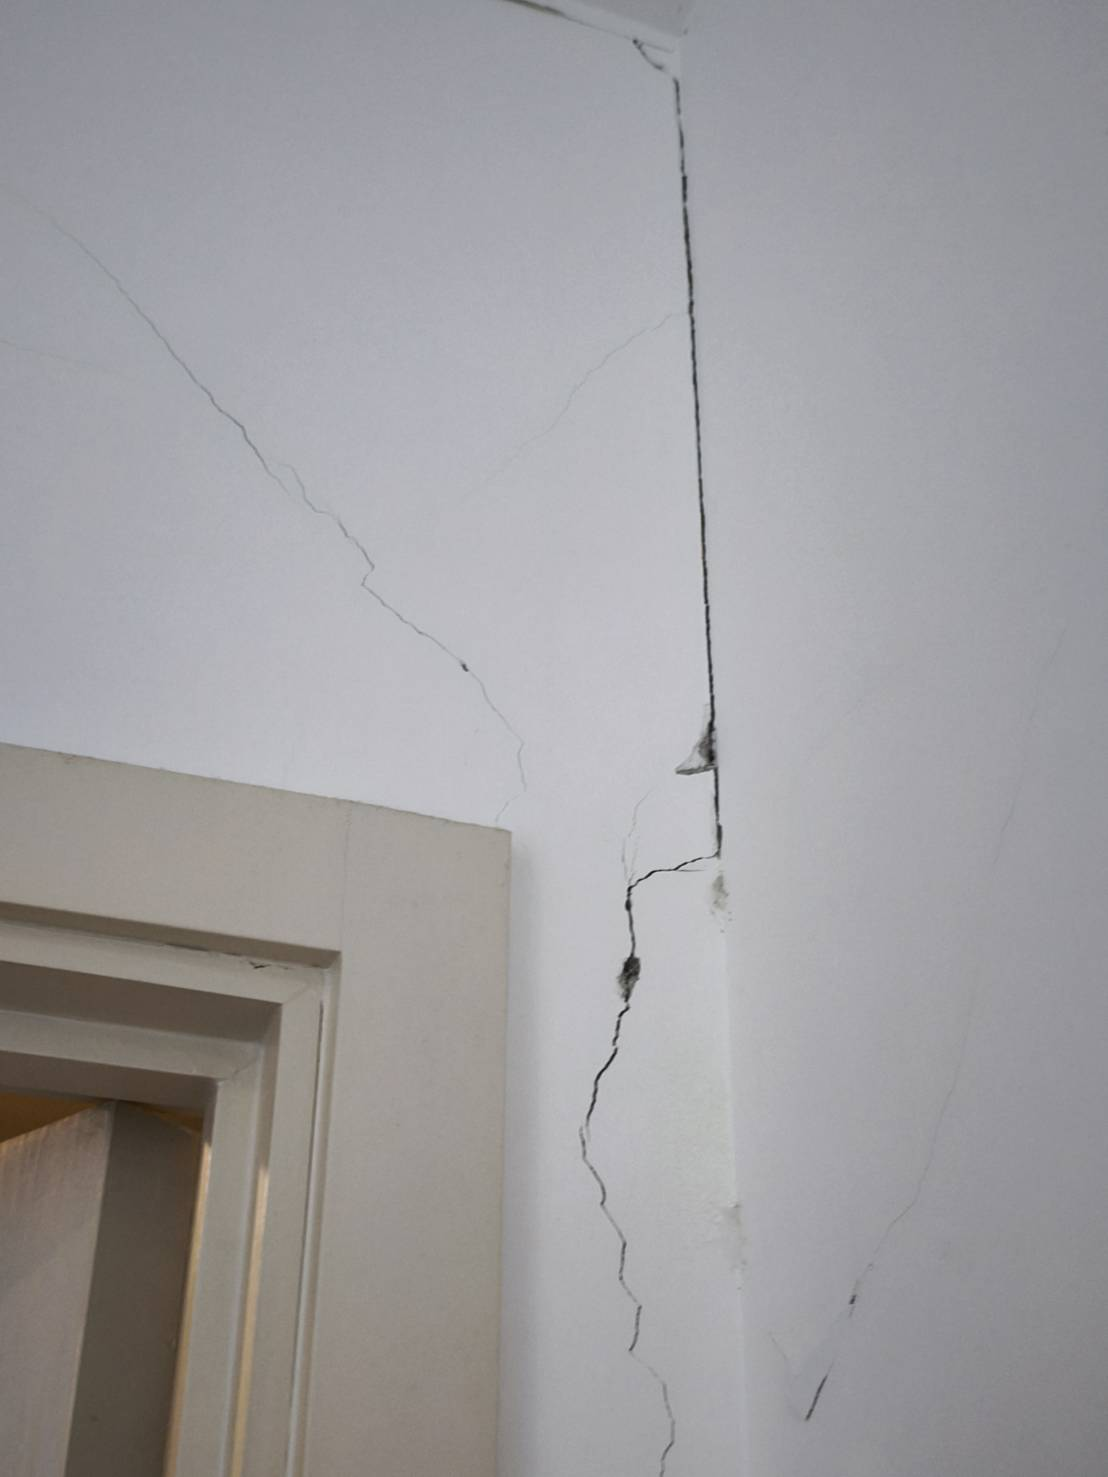Low: (1, 1, 999, 1461)
